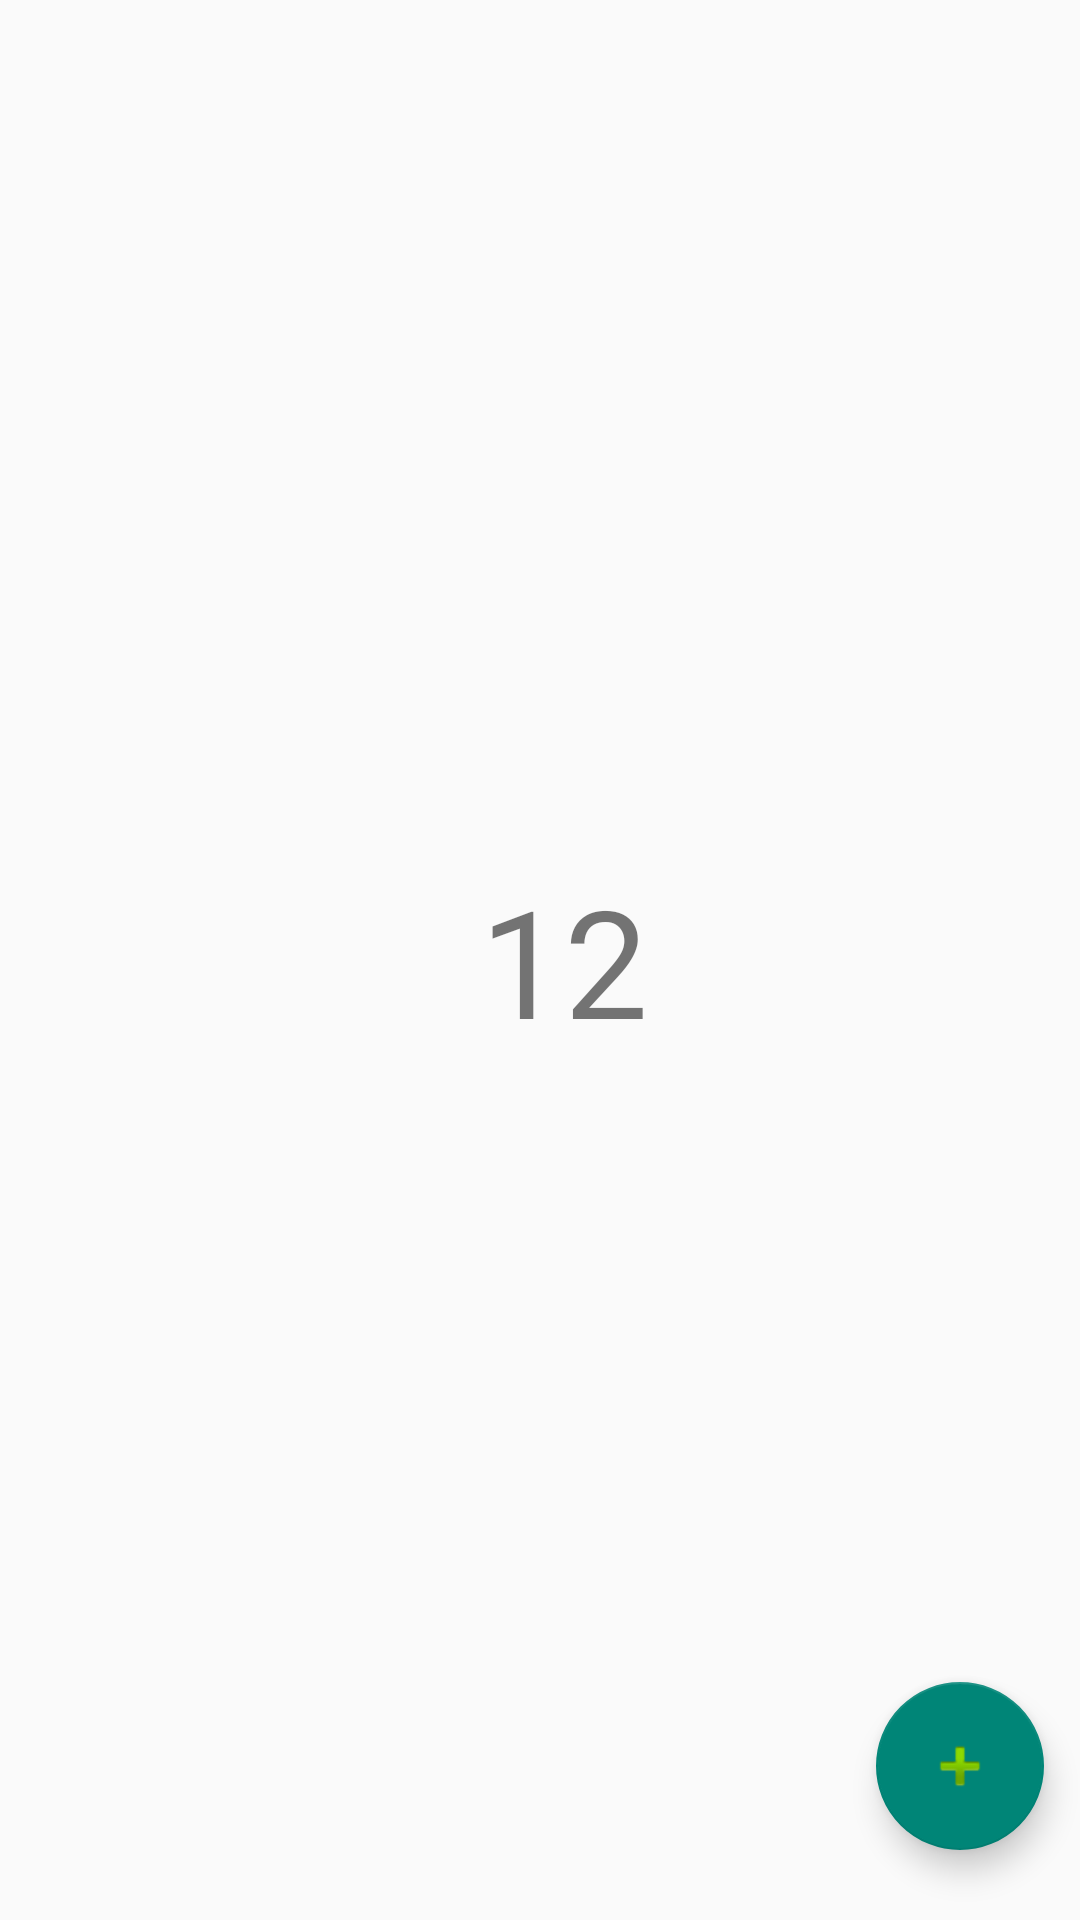

Where icons sit on this 1080w x 1920h app screen, as (x1, y1, x2, y2):
add: (876, 1682, 1044, 1850)
